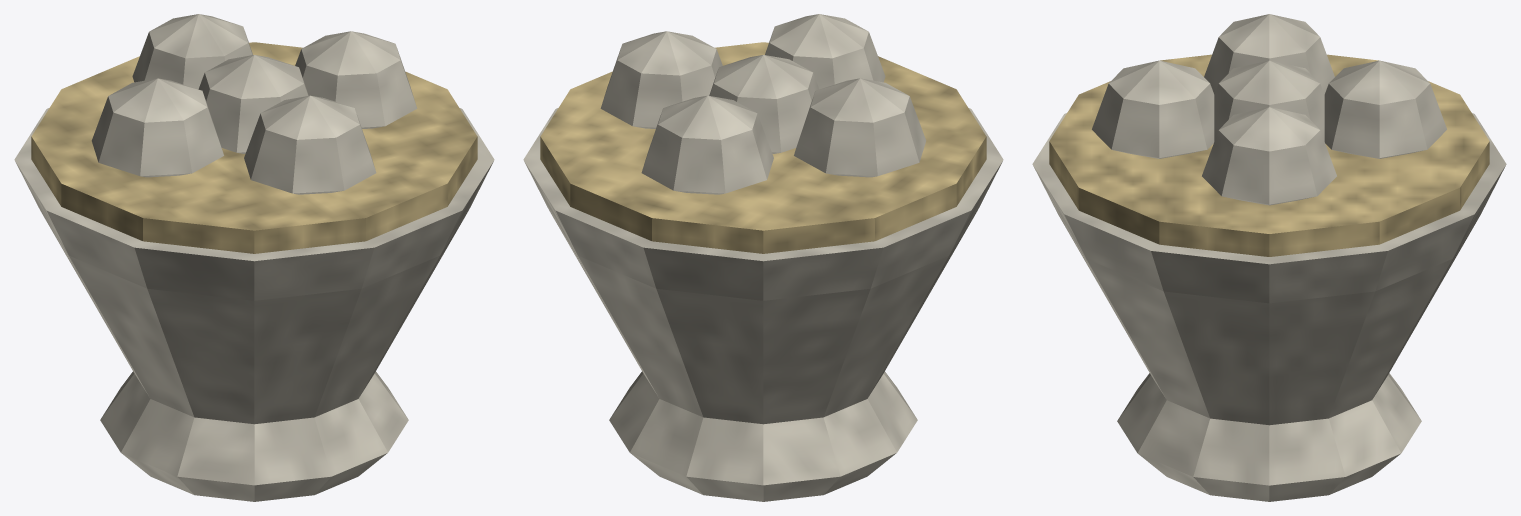
Rendered from tangyuan.fbx.
3 renders of one model, left to right at view 1: azimuth 30°, elevation 25°; view 2: azimuth 150°, elevation 25°; view 3: azimuth 270°, elevation 25°, orthographic.
Visible parts, largest first — view 1: tangyuan; view 2: tangyuan; view 3: tangyuan.
Boxes of the visible parts, <box> form: tangyuan: <box>14,14,494,501</box>; tangyuan: <box>523,14,1003,501</box>; tangyuan: <box>1032,14,1506,501</box>.
Size of the model in its own units: 11.2 by 10.2 by 11.2.
